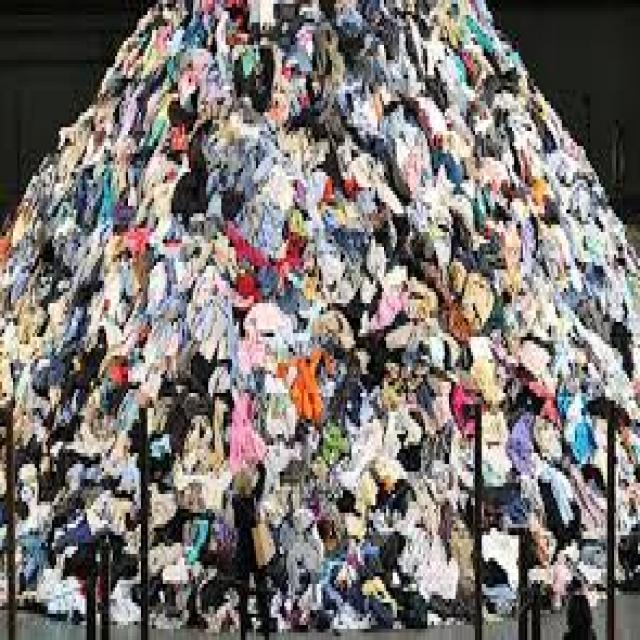Clothes -Biodegradable-: (0, 1, 640, 632)
